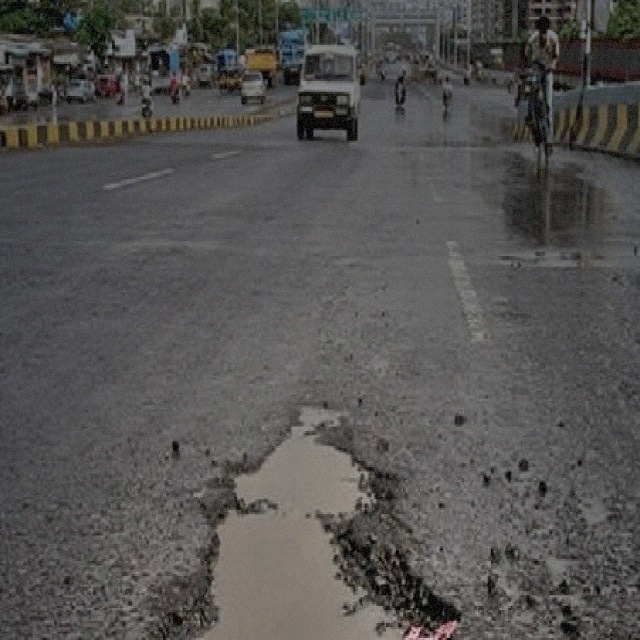pothole: (146, 416, 464, 638)
